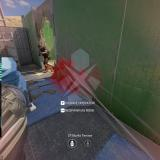Character: (0, 56, 34, 160), (37, 43, 52, 73)
Head: (38, 44, 42, 50)
